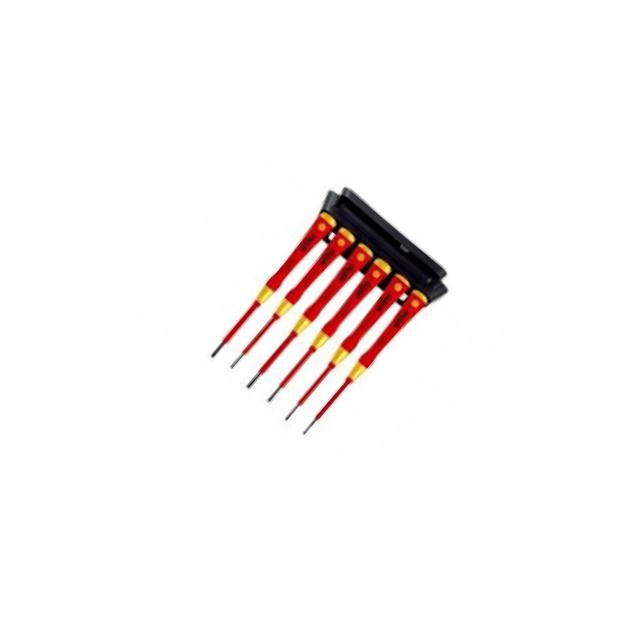screwdriver: (218, 219, 362, 381), (293, 282, 436, 444), (200, 204, 342, 365), (273, 267, 415, 428), (256, 251, 396, 412), (238, 236, 378, 396)
